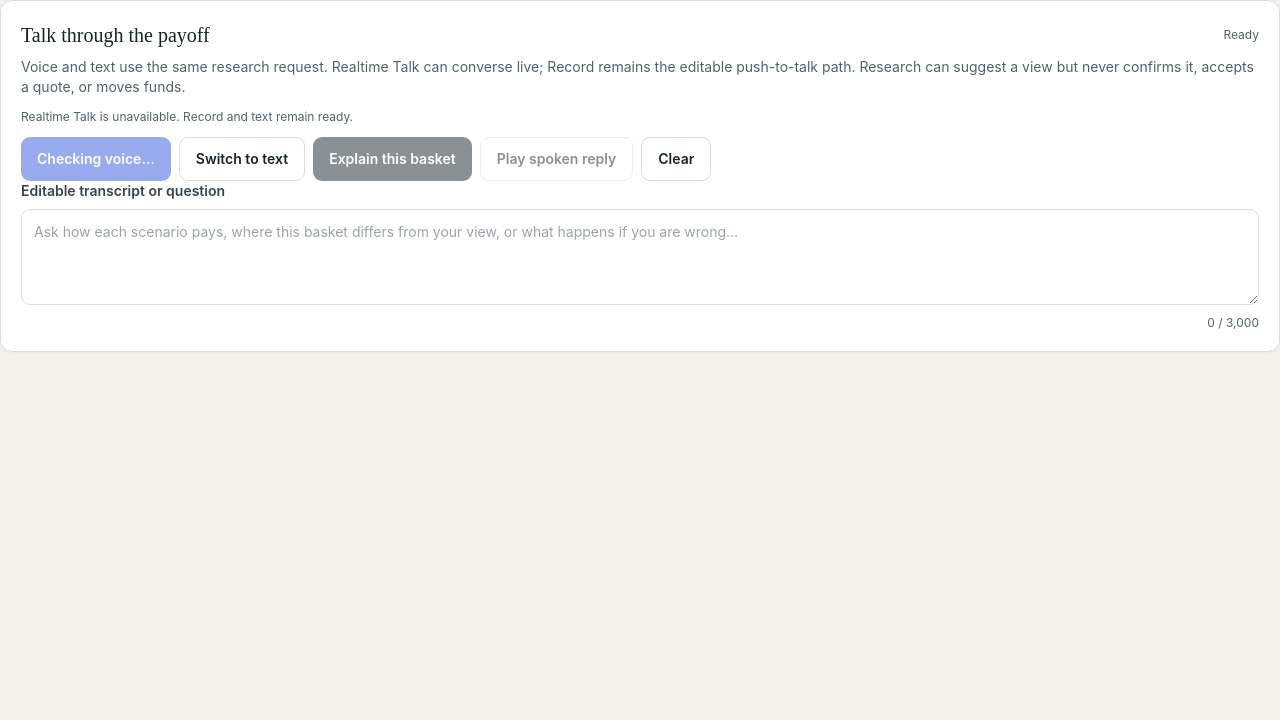
Scenario: VoicePanel interaction flows › routes basket explanation questions through the shared research action with the selected payout basis
Replace the text in the text box with placeholder "Ask how each scenario pays" with "Explain this basket across every settlement scenario." at (640, 257), box 21,209 -> 1259,305
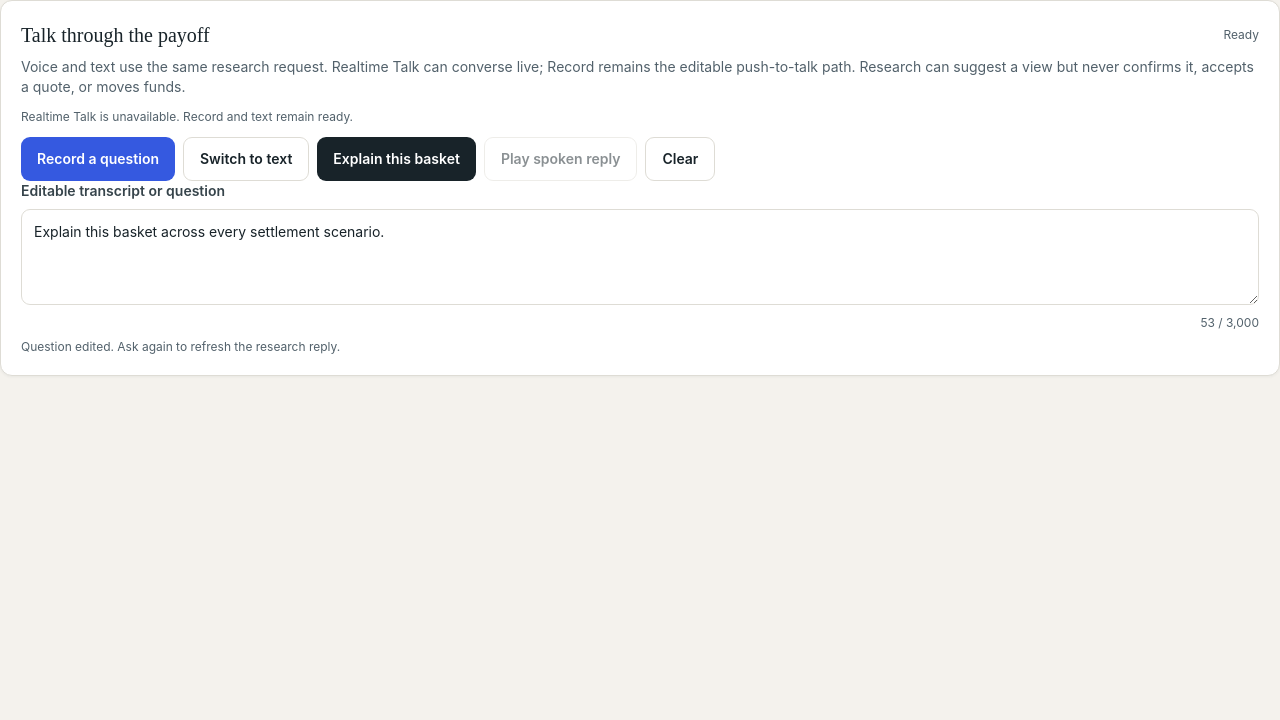
Click the button "Explain this basket" at (397, 159), box 317,137 -> 476,181
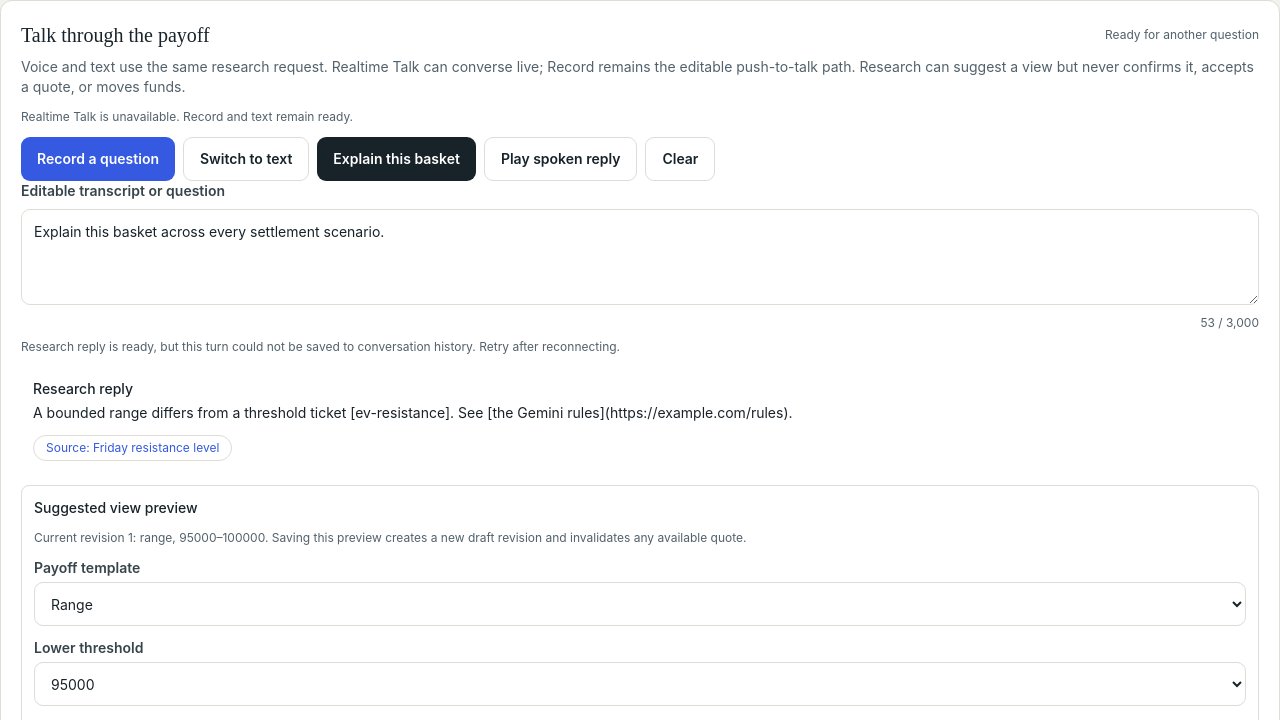
Check: the text "A bounded range differs from a threshold ticket" is shown, box 33,404 -> 793,421
